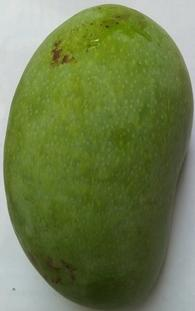Unripe: (1, 1, 195, 311)
